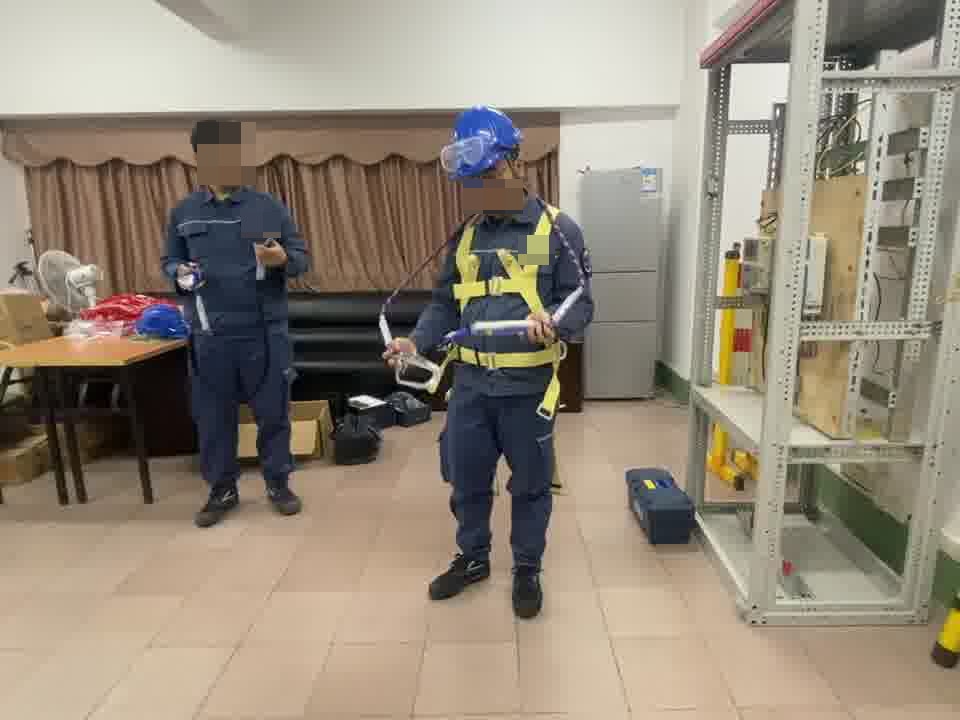downsuit: (440, 397, 556, 571), (192, 340, 296, 487)
halt: (447, 106, 524, 200)
hand: (525, 307, 559, 349), (250, 232, 289, 268), (385, 332, 413, 358), (171, 258, 197, 278)
inear: (506, 152, 529, 187)
noear: (190, 150, 207, 168)
person: (409, 102, 595, 607), (165, 117, 311, 516)
safebelt: (419, 210, 577, 427)
unhalt: (191, 118, 252, 191), (191, 118, 251, 190)
upsuit: (415, 197, 589, 378), (166, 188, 301, 323)
